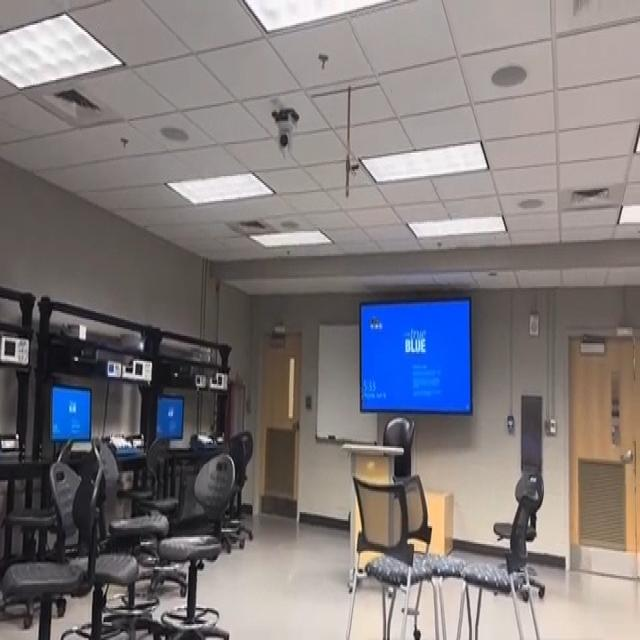drone: (357, 300, 390, 344)
